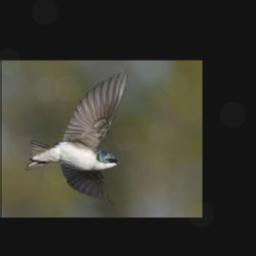Swallow: (26, 70, 129, 204)
